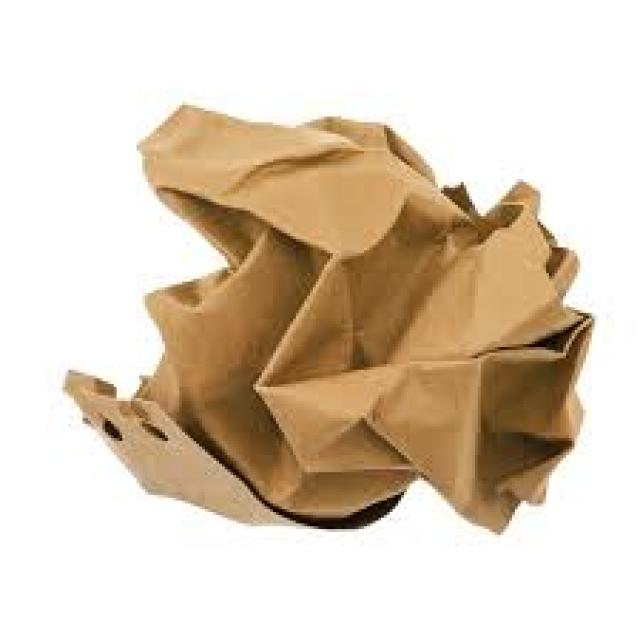crampled paper: (66, 108, 591, 529)
